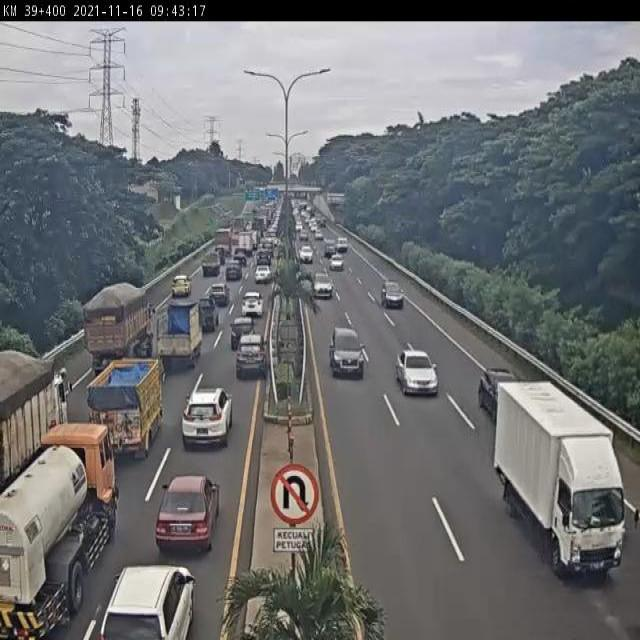car: (100, 560, 197, 640), (155, 473, 220, 555), (181, 382, 232, 454), (395, 346, 441, 398), (328, 327, 368, 380), (480, 367, 518, 420), (235, 334, 267, 382), (229, 314, 256, 349), (196, 294, 220, 330), (380, 278, 406, 310), (240, 289, 265, 320), (311, 271, 335, 300), (170, 271, 192, 300), (207, 281, 228, 308), (253, 263, 273, 284), (225, 260, 244, 281)
small truck: (495, 383, 627, 572), (99, 348, 166, 445), (162, 300, 204, 361), (203, 249, 220, 272)
truck-m-: (0, 421, 118, 640), (0, 345, 67, 484), (84, 282, 153, 374)
